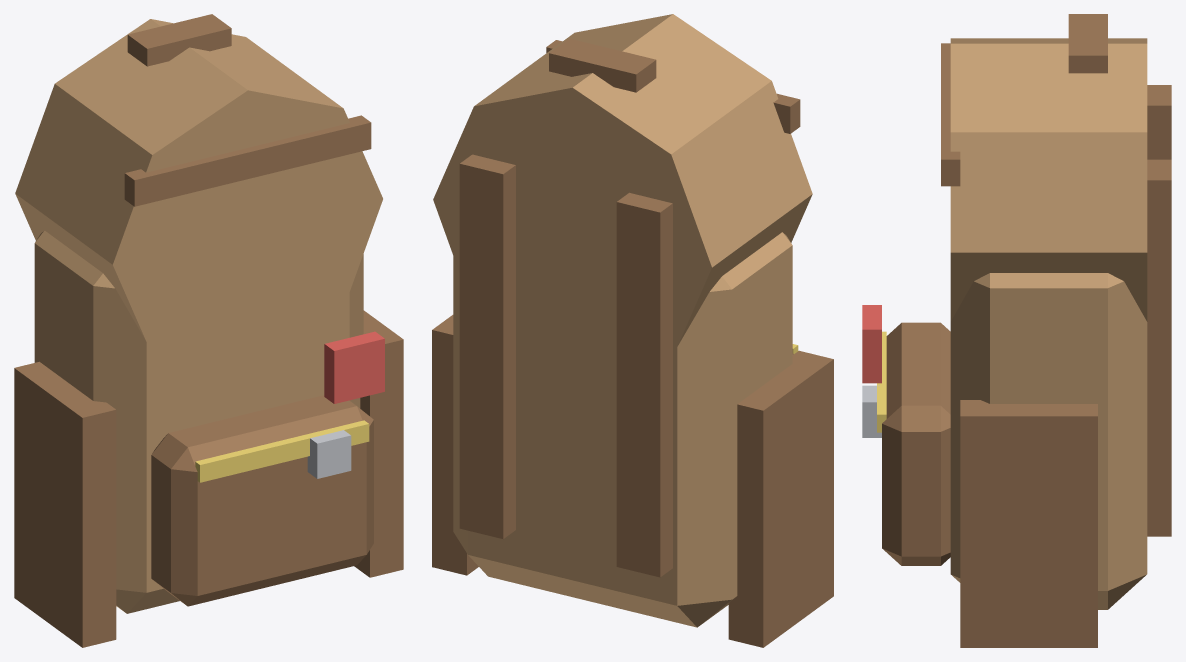
File: prop_student_backpack_01.glb
3 views of the same model, side by side, from view 1: azimuth 30°, elevation 25°; view 2: azimuth 150°, elevation 25°; view 3: azimuth 270°, elevation 25° (orthographic). The views are drawn at different scales.
Visible parts, largest first — view 1: prop_student_backpack_01_body; view 2: prop_student_backpack_01_body; view 3: prop_student_backpack_01_body.
Boxes of the visible parts, x1=… form: prop_student_backpack_01_body: x1=14, y1=14, x2=403, y2=647; prop_student_backpack_01_body: x1=432, y1=14, x2=833, y2=647; prop_student_backpack_01_body: x1=862, y1=14, x2=1171, y2=647.
Bounding box in the file's own units: 0.38 × 0.6 × 0.315.
